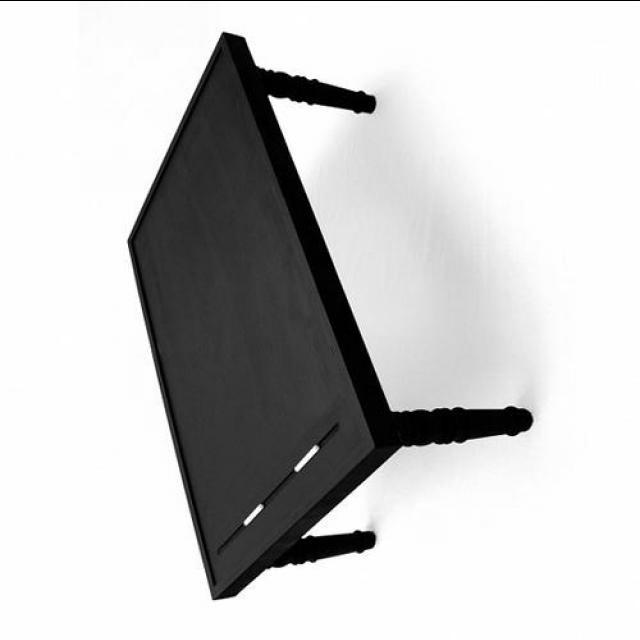table: (128, 31, 534, 601)
